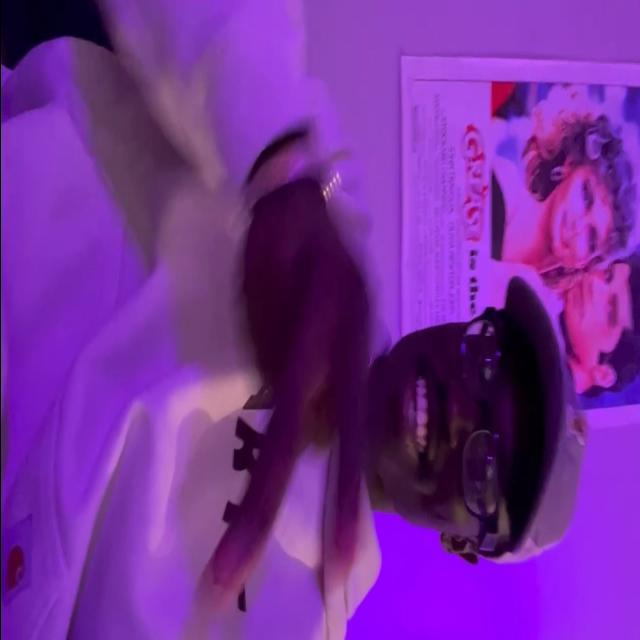Scissors: (202, 160, 379, 609)
